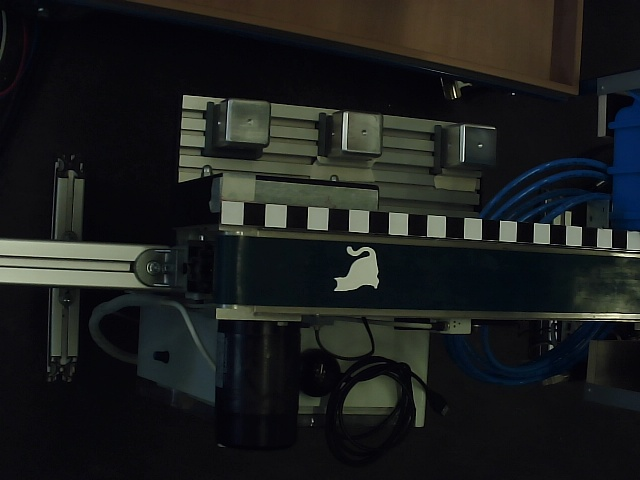cat: (333, 246, 382, 294)
